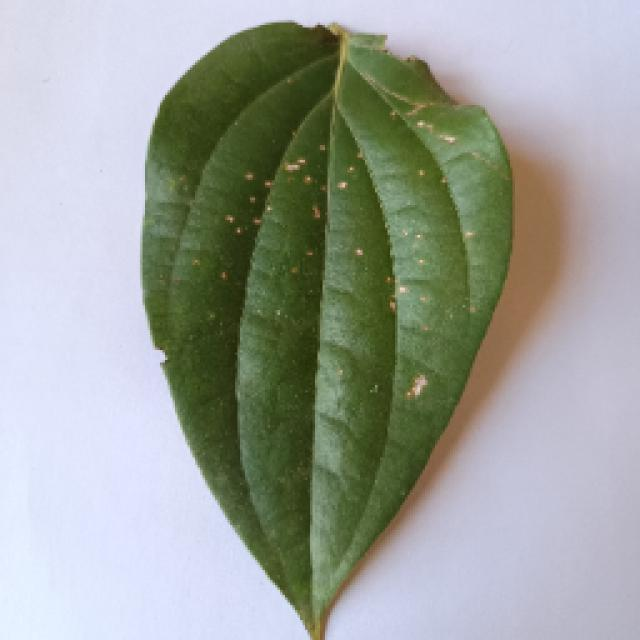pollu-disease: (138, 20, 510, 632)
